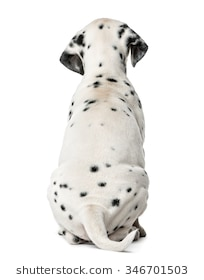dog: (52, 19, 152, 251)
